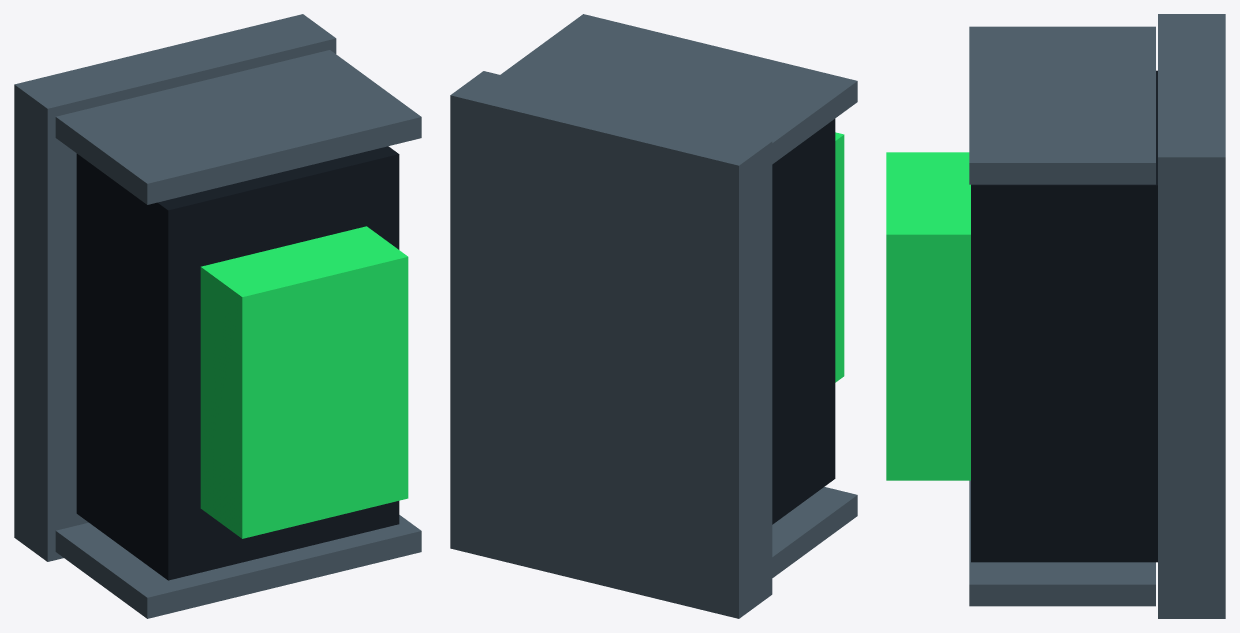
3 views of the same model, side by side, from view 1: azimuth 30°, elevation 25°; view 2: azimuth 150°, elevation 25°; view 3: azimuth 270°, elevation 25° (orthographic).
Parts seen in each view (by area): view 1: P16-03_Steel, P16-03_DarkPanel, P16-03_EmissionGreen; view 2: P16-03_Steel, P16-03_DarkPanel, P16-03_EmissionGreen; view 3: P16-03_Steel, P16-03_DarkPanel, P16-03_EmissionGreen.
Boxes of the visible parts, <box> form: P16-03_Steel: <box>14,14,421,618</box>; P16-03_DarkPanel: <box>76,146,399,580</box>; P16-03_EmissionGreen: <box>200,226,408,538</box>; P16-03_Steel: <box>450,14,857,618</box>; P16-03_DarkPanel: <box>772,119,835,524</box>; P16-03_EmissionGreen: <box>835,132,844,382</box>; P16-03_Steel: <box>969,14,1225,618</box>; P16-03_DarkPanel: <box>971,70,1157,562</box>; P16-03_EmissionGreen: <box>886,152,970,480</box>.
Bounding box in the file's own units: 0.2 × 0.3 × 0.2.
